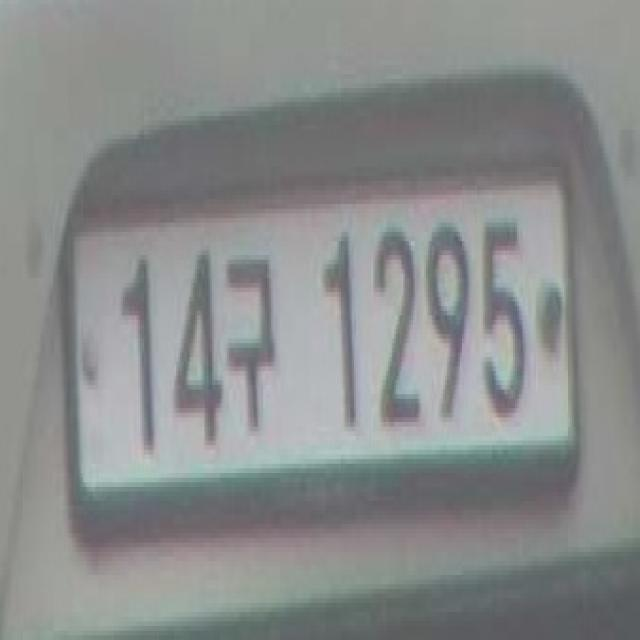1: (316, 218, 369, 445), (118, 255, 168, 468)
2: (370, 213, 420, 454)
4: (172, 246, 224, 464)
5: (475, 200, 534, 426)
9: (422, 214, 473, 432)
gu: (224, 241, 276, 441)
license_plate: (63, 158, 582, 533)
